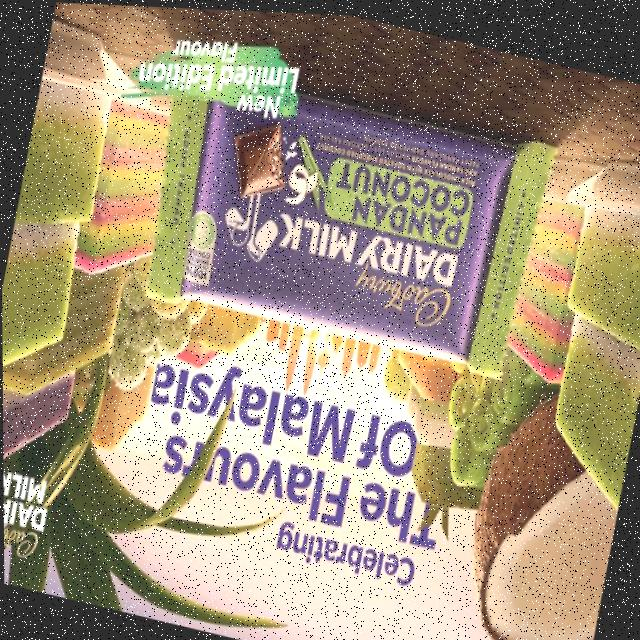cadbury: (152, 67, 506, 355)
